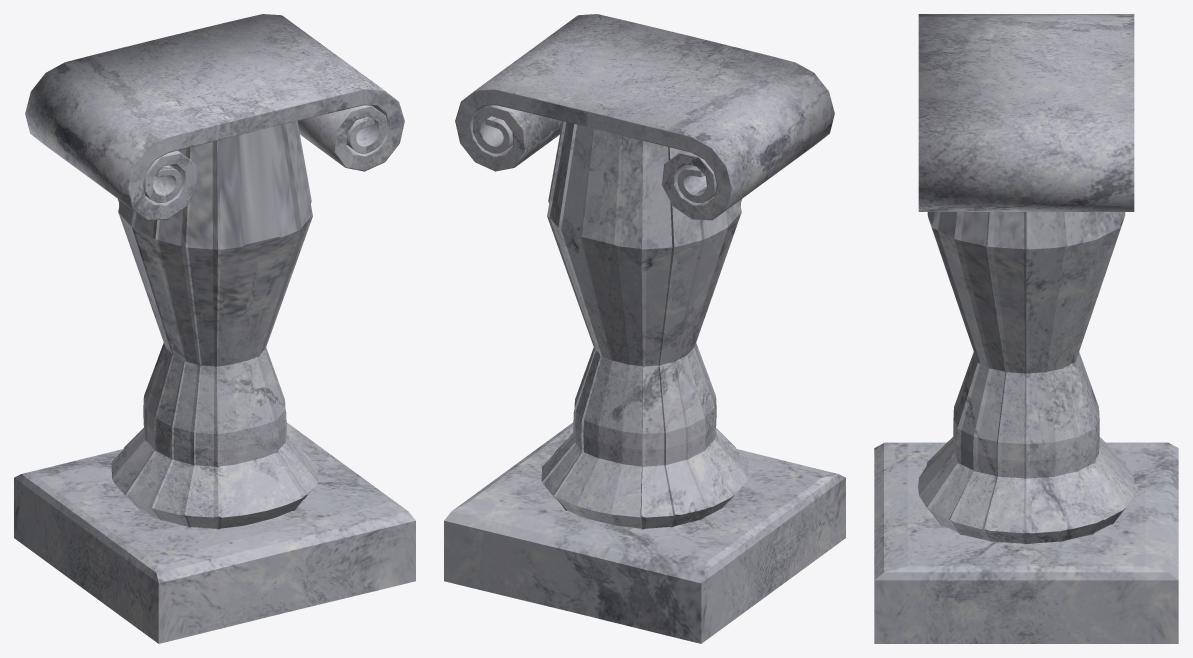
File: pillar.gltf
3 renders of one model, left to right at view 1: azimuth 30°, elevation 25°; view 2: azimuth 150°, elevation 25°; view 3: azimuth 270°, elevation 25°, orthographic. The views are drawn at different scales.
Visible parts, largest first — view 1: Cube.003; view 2: Cube.003; view 3: Cube.003.
Part boxes in pixels (x1,y1,x2,y2): Cube.003: [14, 14, 415, 643]; Cube.003: [444, 14, 845, 643]; Cube.003: [874, 14, 1178, 643].
Size of the model in its own units: 0.6747 by 1.13 by 0.6091.
Materials: 1 (1 with a texture image).
